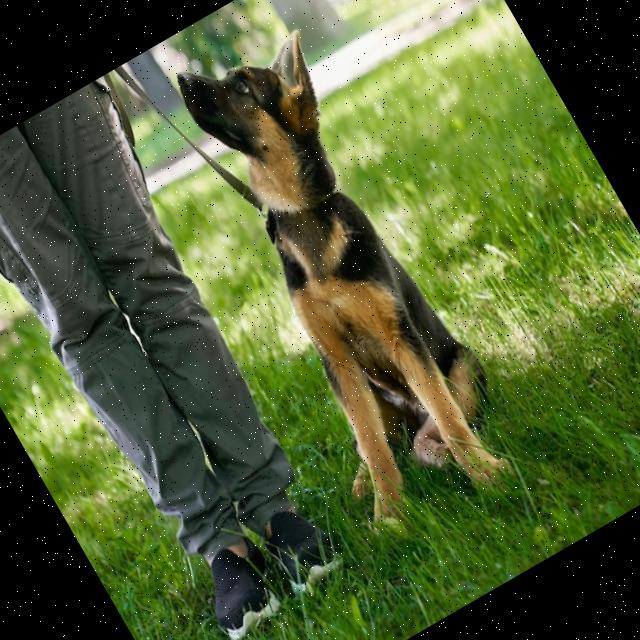Dog: (126, 9, 550, 558)
